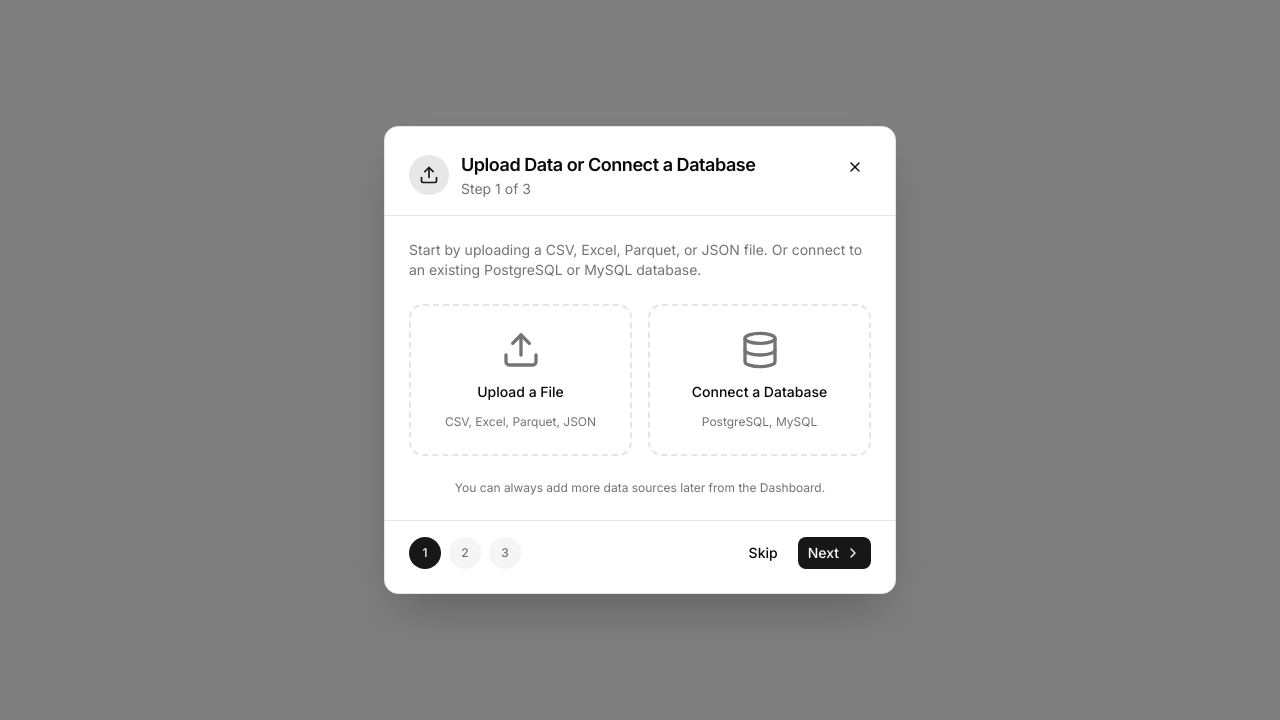
it: OnboardingWizard › Navigation › advances to step 2 when next is clicked
Click the button with test id "next-button".
click(834, 553)  # box [798, 537, 871, 569]
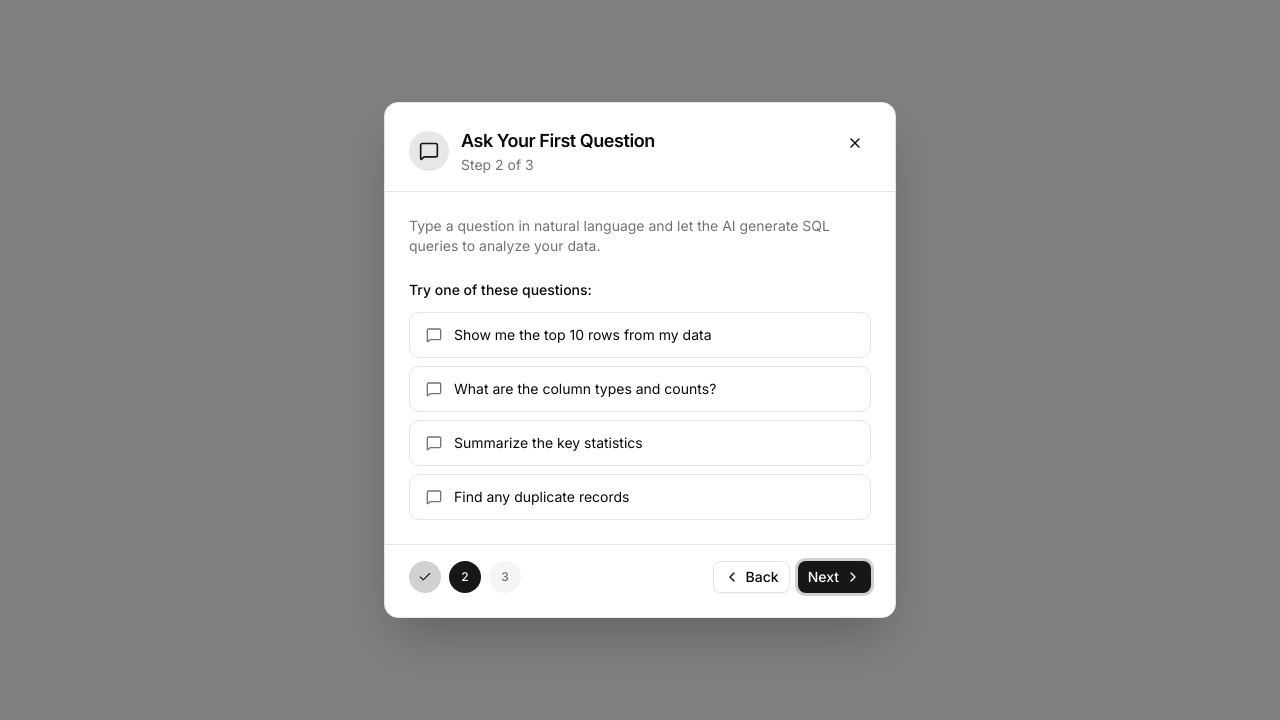
Result: the heading with test id "step-title" reads "Ask Your First Question" at [461, 130, 655, 151]
Result: the text "Step 2 of 3" is shown at [461, 156, 534, 173]
